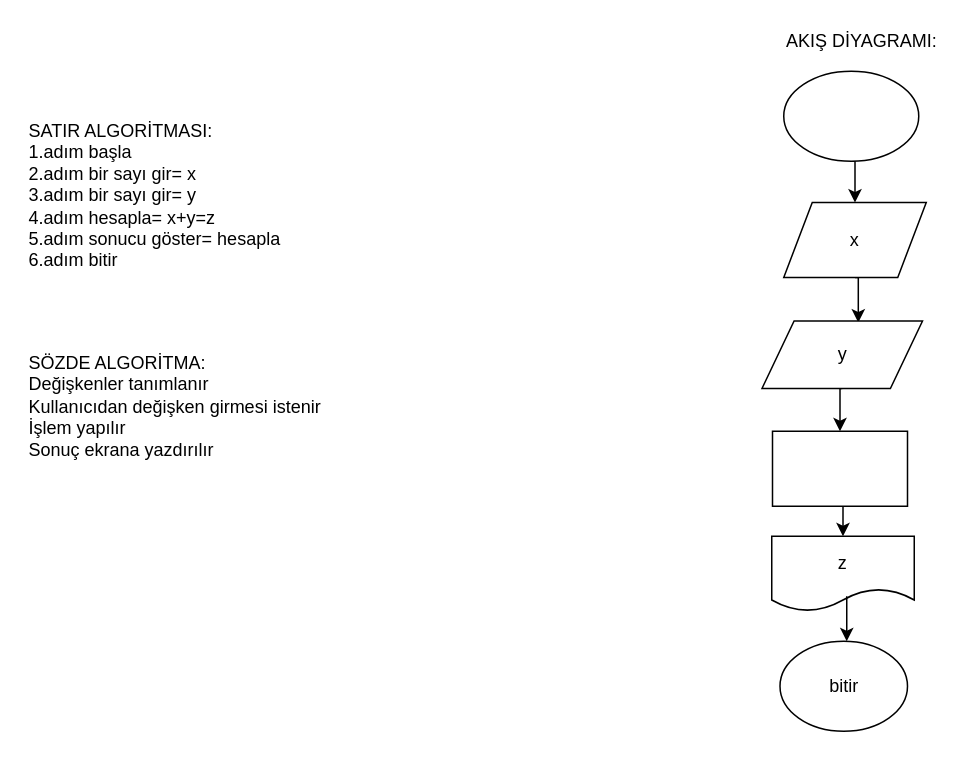
Some shapes in this 974 by 758 pixel diagram are drawn without their labels. Here are the shapes that lost their labels. From the top down, the box of each, then its label:
(782, 70, 919, 161): başla
(771, 430, 908, 506): x+y=z
